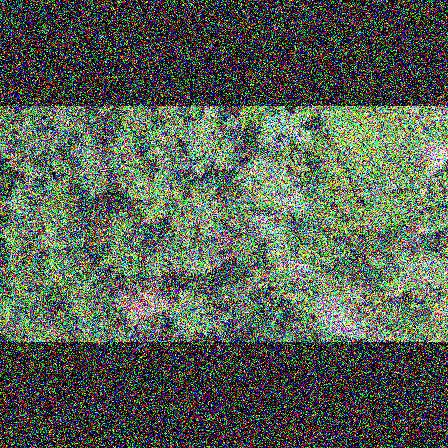Dead: (310, 292, 364, 340), (366, 250, 437, 281), (274, 248, 315, 286), (240, 206, 285, 236)
